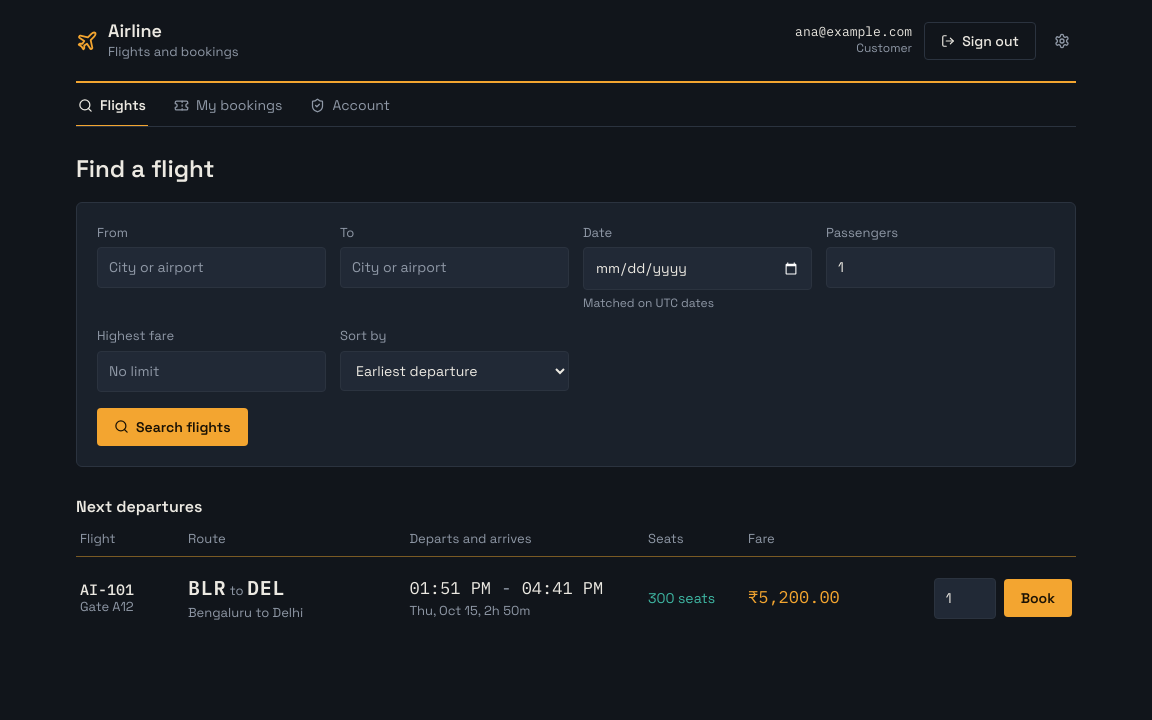
Scenario: App › keeps the person signed in across a page refresh, and signs out on request
expect the text "ana@example.com" is shown: met, box [795,23,912,40]
Click the button "Sign out". click: (980, 40)
box: [924,22,1036,60]
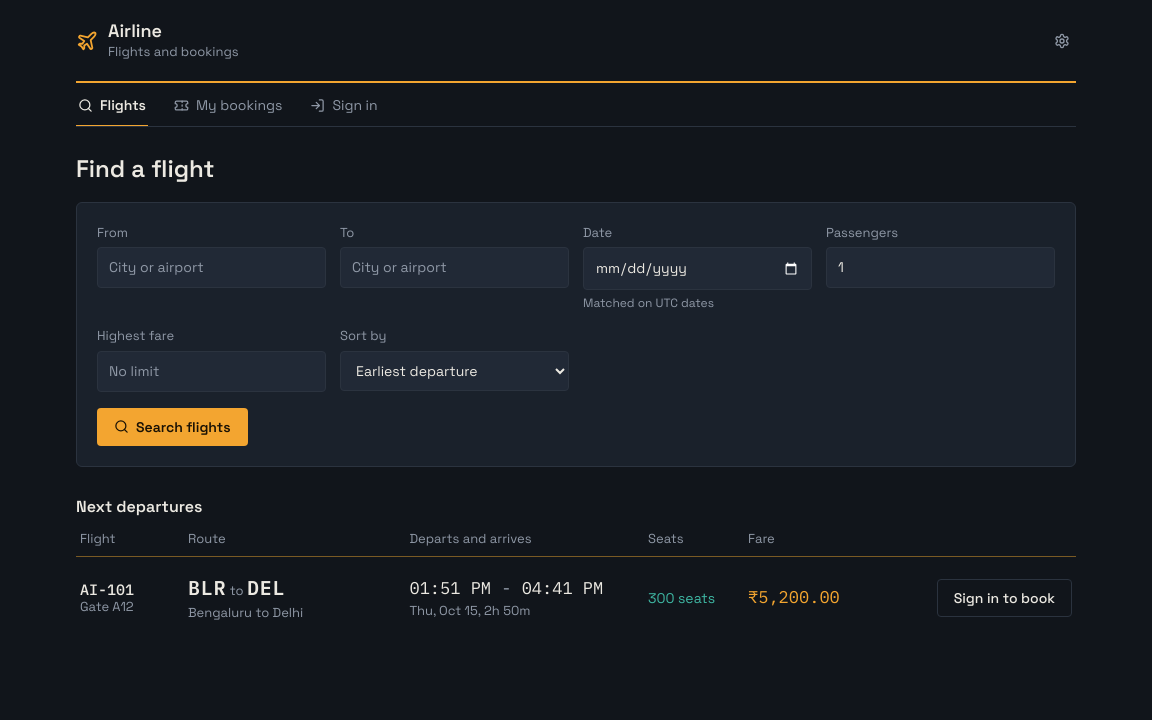
expect the button "Sign in" is shown: met, box [308,83,380,127]
